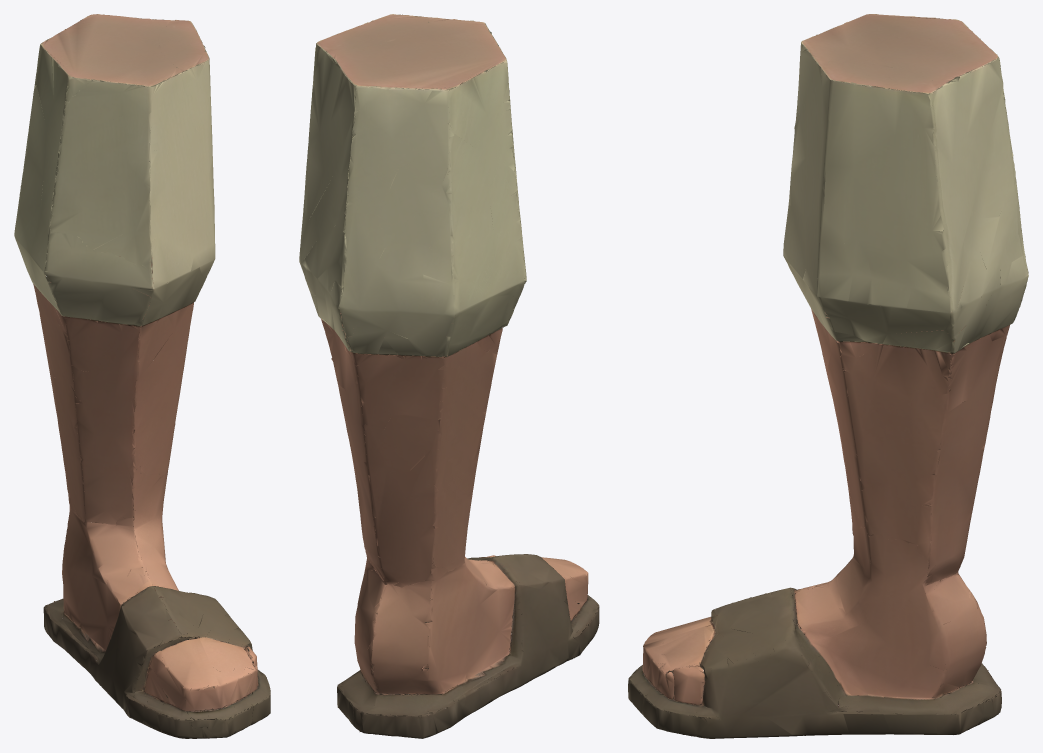
The model's file is PieIzq.obj.
The picture shows the model from 3 angles, left to right: view 1: azimuth 30°, elevation 25°; view 2: azimuth 150°, elevation 25°; view 3: azimuth 270°, elevation 25°; orthographic projection. The views are drawn at different scales.
Visible parts, largest first — view 1: model.004; view 2: model.004; view 3: model.004.
Part boxes in pixels (x1=…): model.004: x1=14, y1=14, x2=270, y2=738; model.004: x1=299, y1=14, x2=599, y2=738; model.004: x1=628, y1=14, x2=1028, y2=738.
Bounding box in the file's own units: 0.114 × 0.3703 × 0.2035.
1 material, 1 textured.
